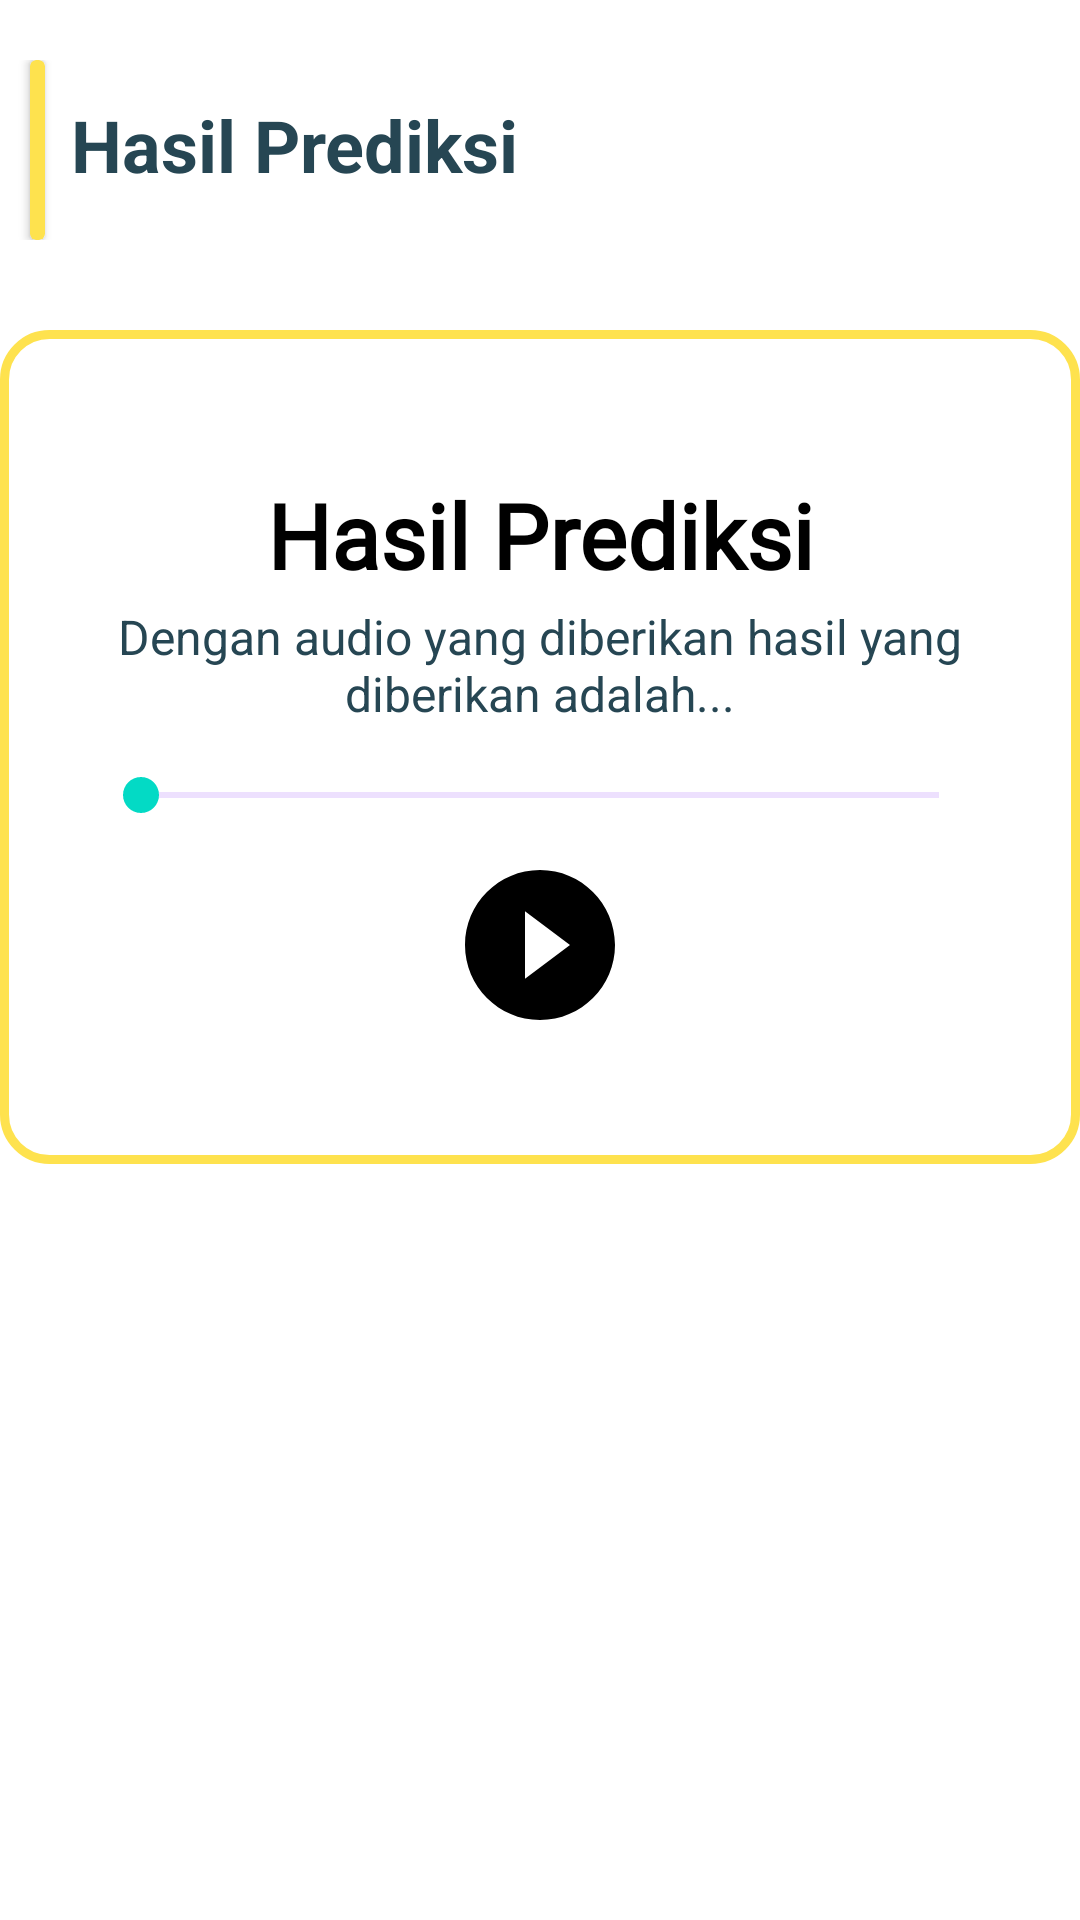

Icons on this 1080px x 1920px Android screen, each with its box as (x1, y1, x2, y2):
play: (465, 870, 615, 1020)
